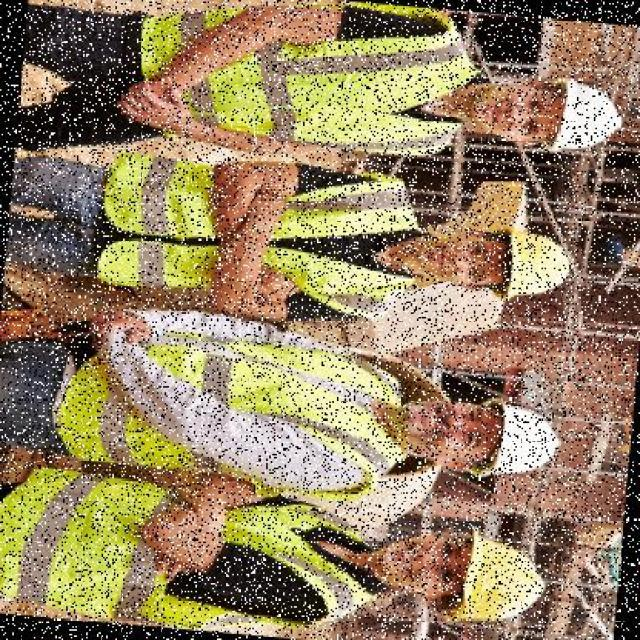helmet: (445, 525, 553, 634), (539, 74, 627, 166), (474, 394, 562, 485), (486, 222, 569, 308)
vest: (115, 0, 491, 171), (0, 474, 382, 638), (83, 151, 429, 327), (54, 328, 398, 499)
